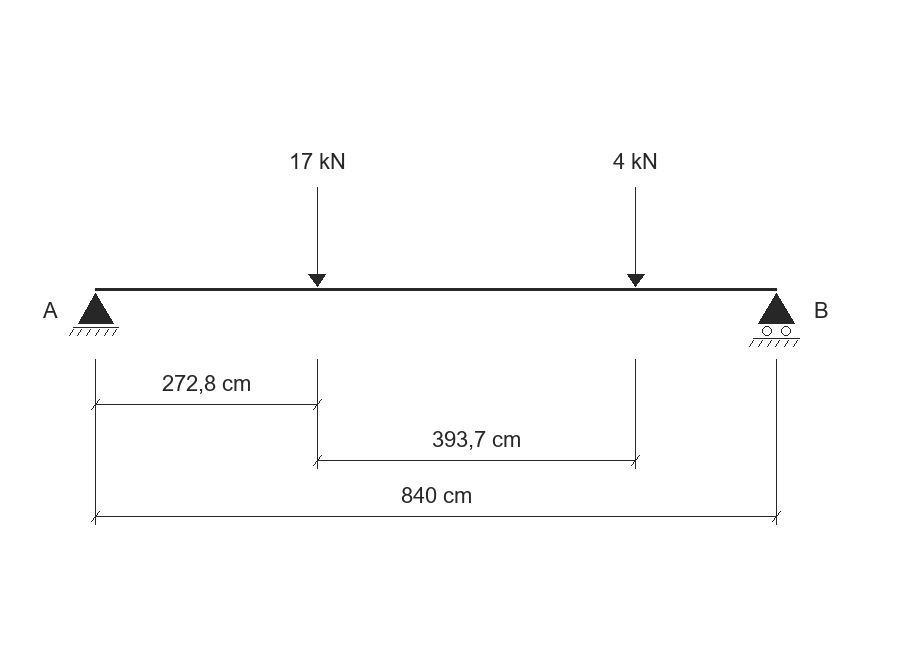pin_support: (69, 293, 119, 336)
point_load: (308, 187, 326, 287), (627, 187, 645, 287)
roller_support: (749, 293, 800, 347)
